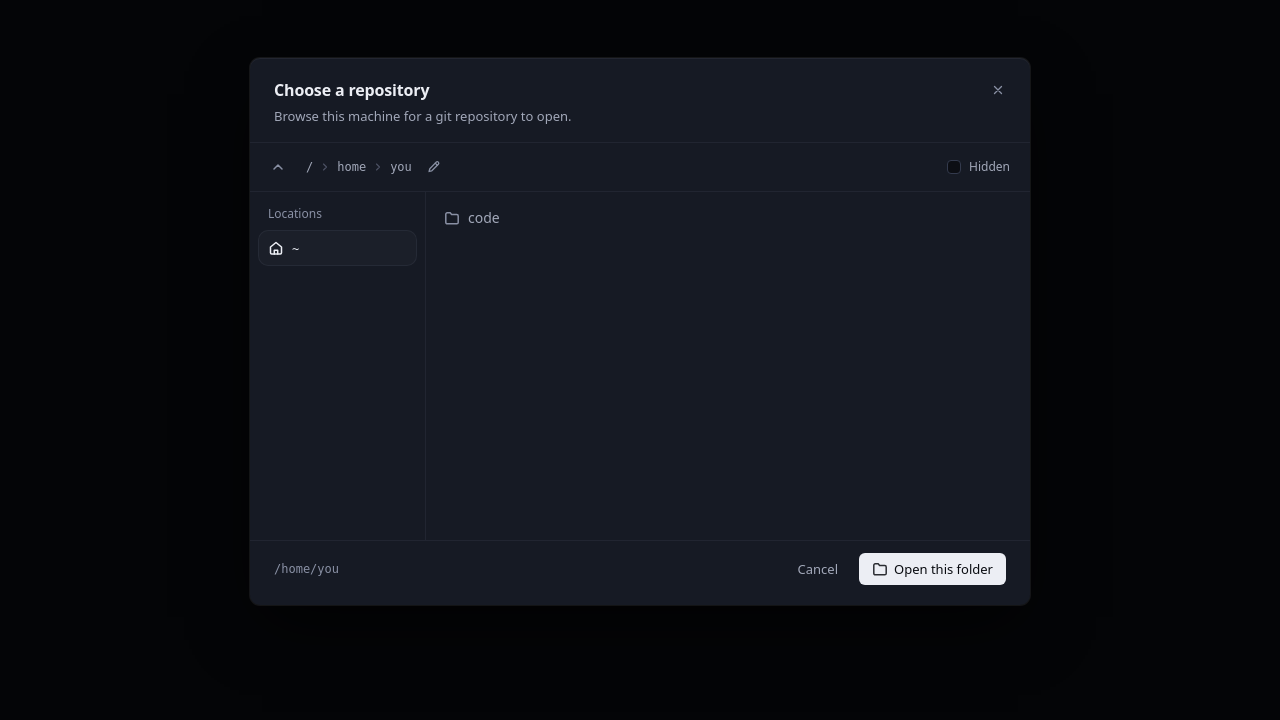
DirectoryPicker › says why it is not where the path said, once, and keeps the path to correct
Click the element named "Current path": (374, 167) [302,155,446,179]
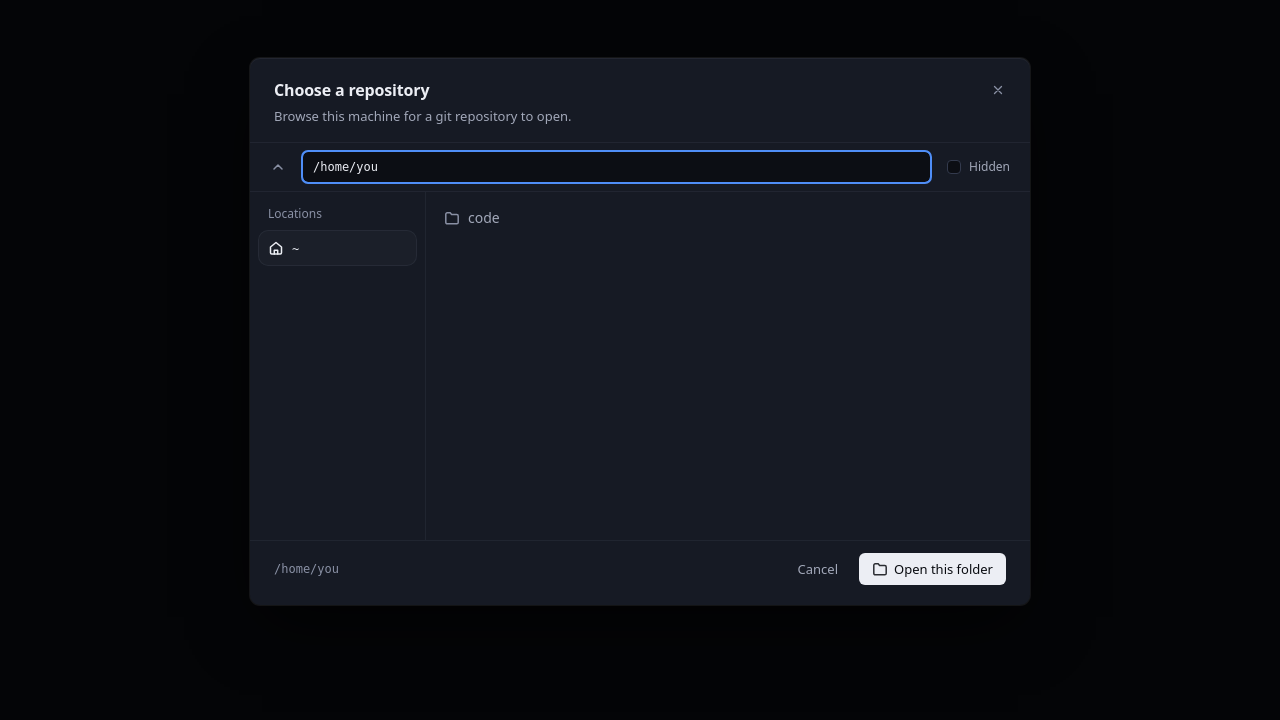
Replace the text in the field named "path" with "/home/you/nope/deeper": (617, 167) [302,151,931,183]
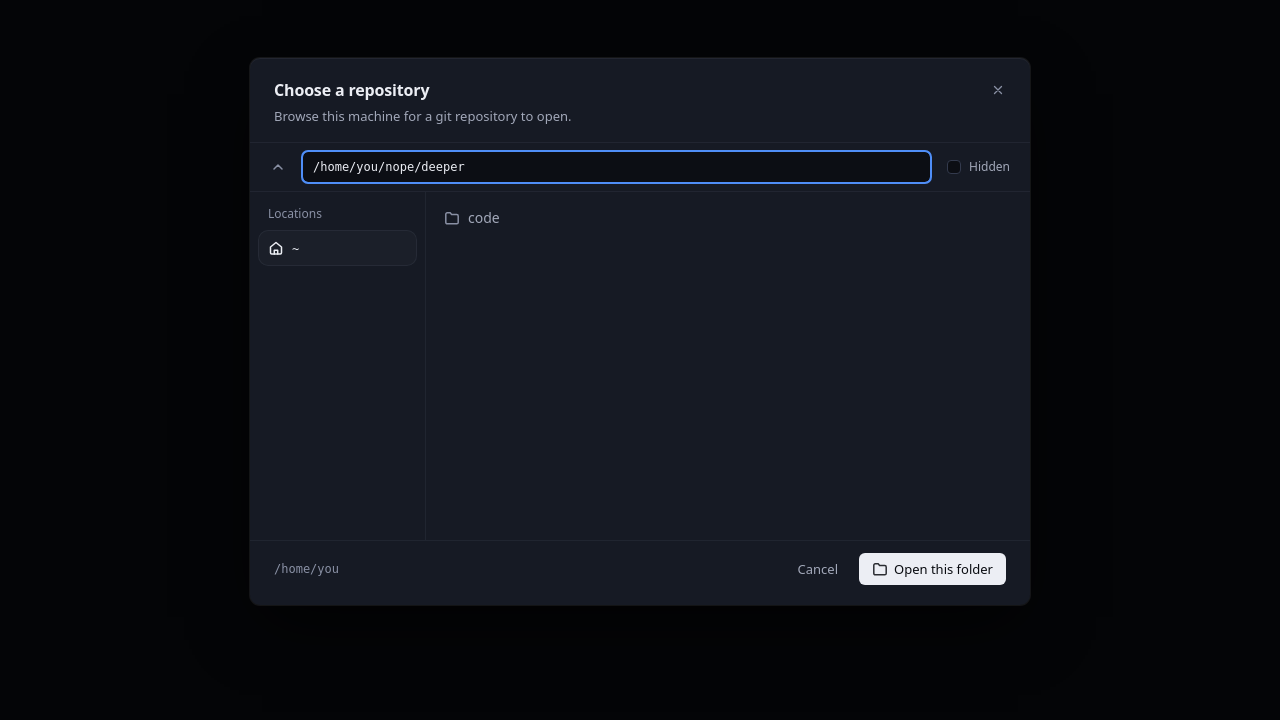
Press Enter in the field named "path", box [302,151,931,183]
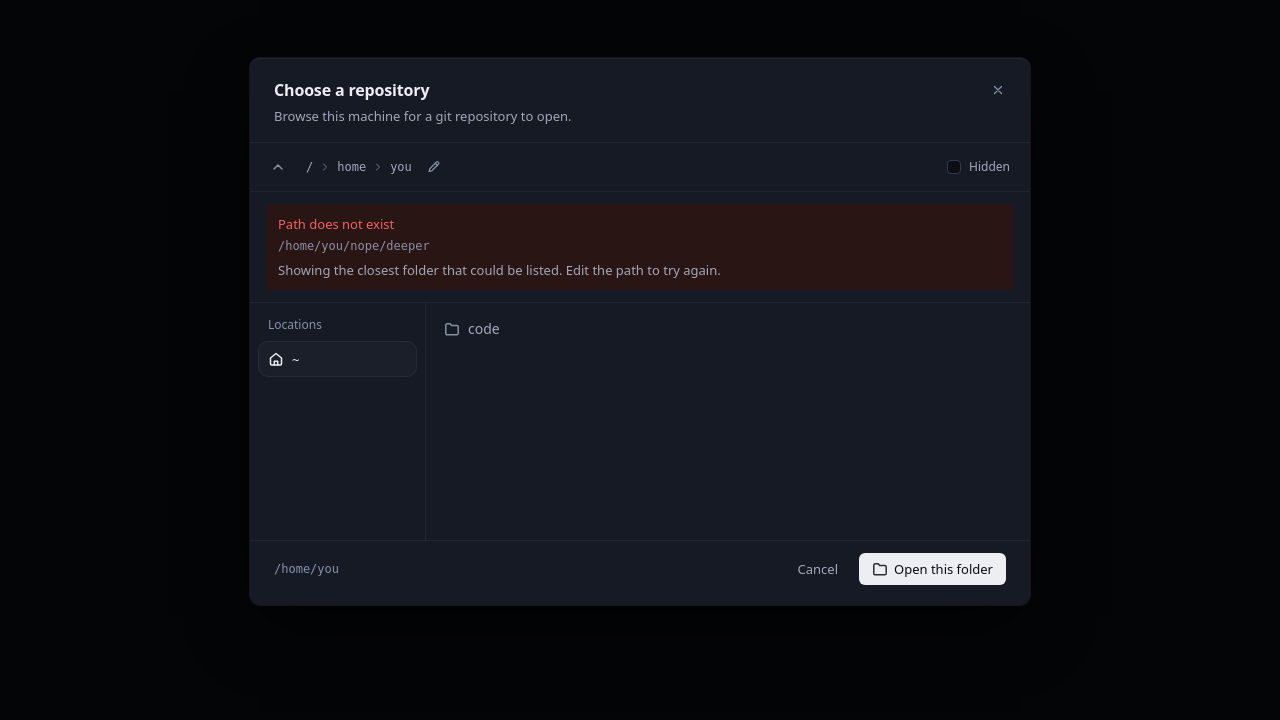
Expected: the message shows "Path does not exist", [278,215,394,233]
Expected: the message shows "/home/you/nope/deeper", [278,239,430,253]
Click the button named "Edit path": (434, 167) [422,155,446,179]
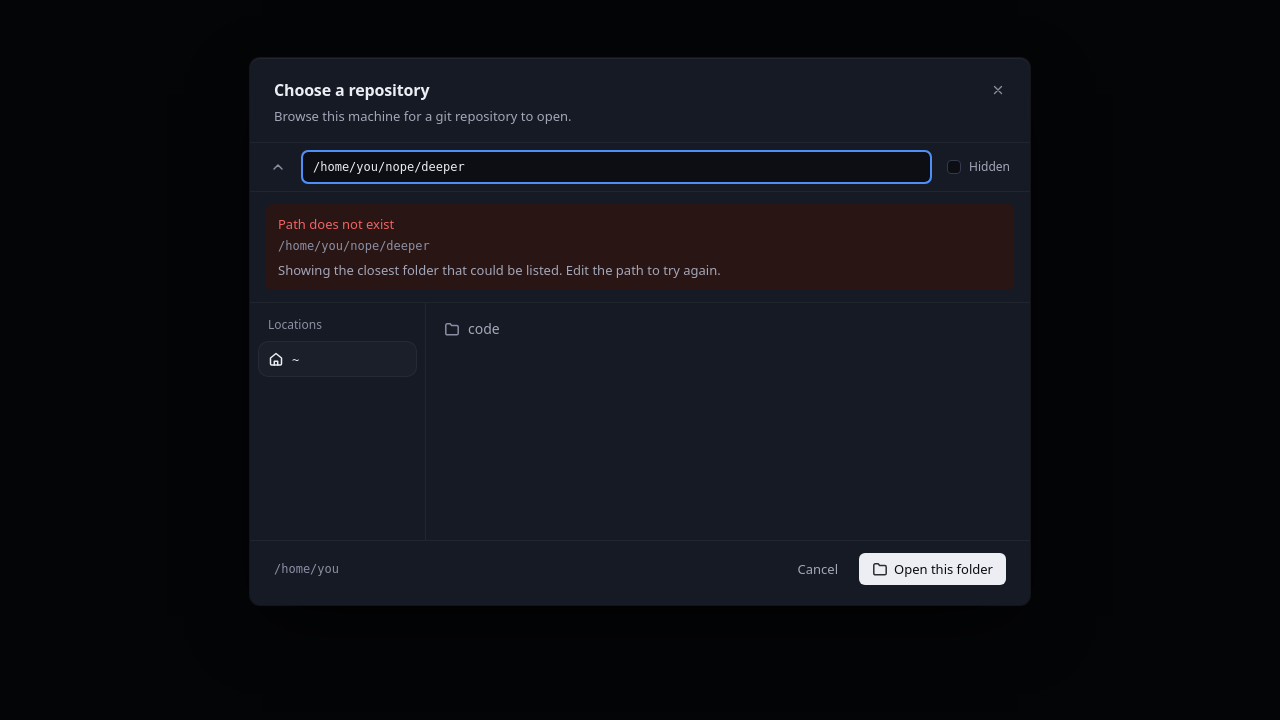
Expected: the field named "path" holds "/home/you/nope/deeper", [302,151,931,183]
